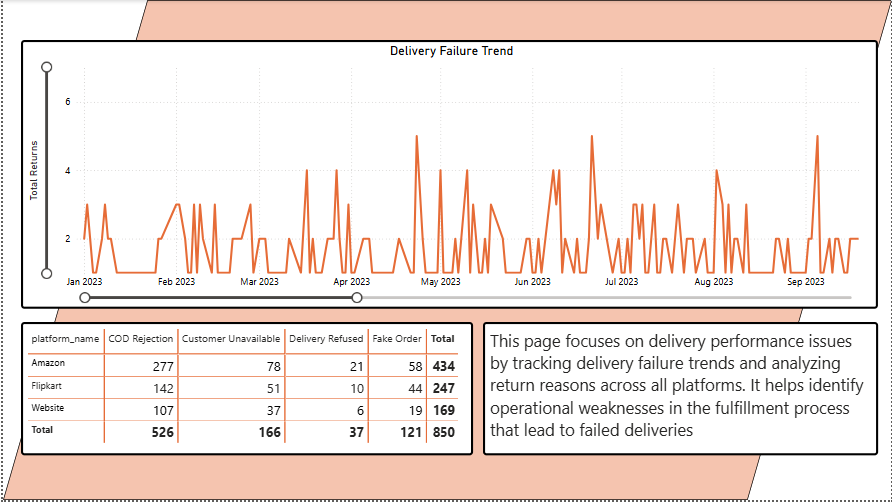

The dashboard page shown, as its layout file describes it:
{"tool":"powerbi","page":{"name":"Delivery Risk & Failure Analysis","canvas":[1280,720],"ordinal":14},"visuals":[{"type":"shape","box":[0,0,1280.2,720],"z":0},{"type":"lineChart","title":"Delivery  Failure Trend","fields":{"Category":["dim_date.date"],"Y":["Measures (2).Total Returns"]},"box":[25.9,57.6,1234.1,387.4],"z":1000},{"type":"pivotTable","fields":{"Rows":["dim_platforms.platform_name"],"Columns":["fact_returns.return_reason"],"Values":["Measures (2).Total Returns"]},"box":[25.9,463.7,650.9,191.5],"z":2000},{"type":"textbox","box":[691.2,463.7,568.8,191.5],"z":3000}]}

Visuals, with their boxes in screenshot pixels (x1, y1, x2, y2), scaled from the page's 1280x720 canvas onto the 892x504 screenshot:
shape: x1=0 y1=0 x2=891 y2=503
"Delivery  Failure Trend" lineChart: x1=18 y1=40 x2=878 y2=312
pivotTable - dim_platforms.platform_name x fact_returns.return_reason: x1=18 y1=325 x2=472 y2=459
textbox: x1=482 y1=325 x2=878 y2=459
